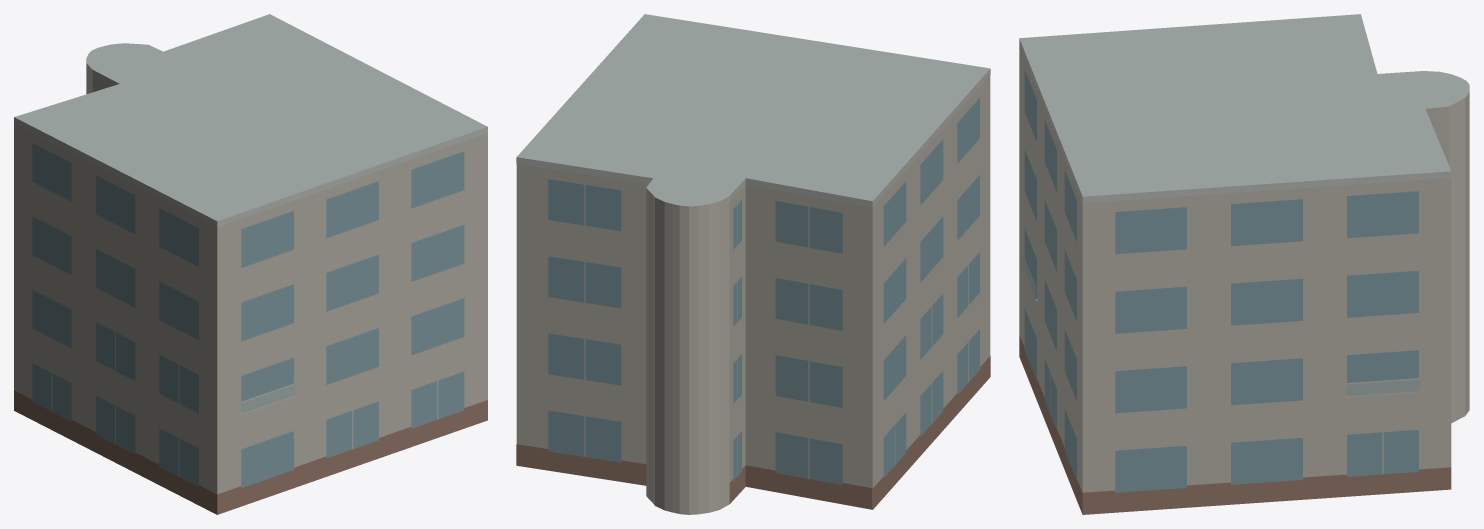
The model's file is survey-upis-32947691.glb.
3 views of the same model, side by side, from view 1: azimuth 30°, elevation 25°; view 2: azimuth 150°, elevation 25°; view 3: azimuth 270°, elevation 25° (orthographic). The views are drawn at different scales.
Parts seen in each view (by area): view 1: survey-upis-32947691.tmp; view 2: survey-upis-32947691.tmp; view 3: survey-upis-32947691.tmp.
Part boxes in pixels (left/top/right/bottom): survey-upis-32947691.tmp: left=14, top=14, right=487, bottom=514; survey-upis-32947691.tmp: left=516, top=14, right=990, bottom=514; survey-upis-32947691.tmp: left=1019, top=14, right=1469, bottom=514.
Size of the model in its own units: 14.29 by 11.6 by 14.89.
